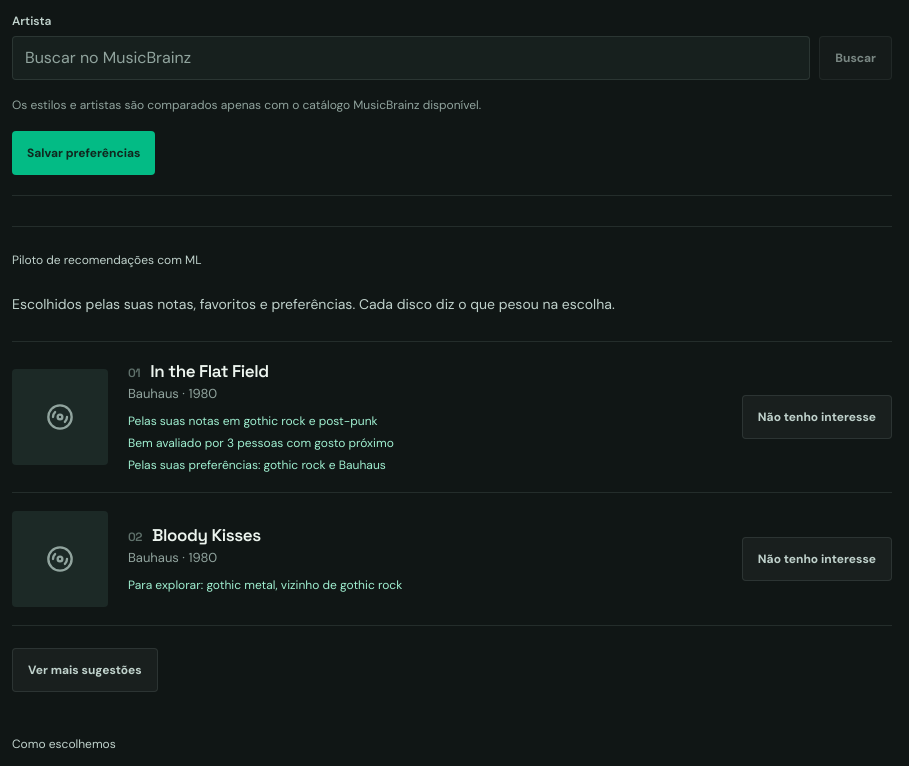
Test case: RecommendationsPage › keeps the album when dismissing fails
(page scrolled)
Click the button with aria-label "Não tenho interesse em Bloody Kisses" at (817, 559), box [742,537,892,581]
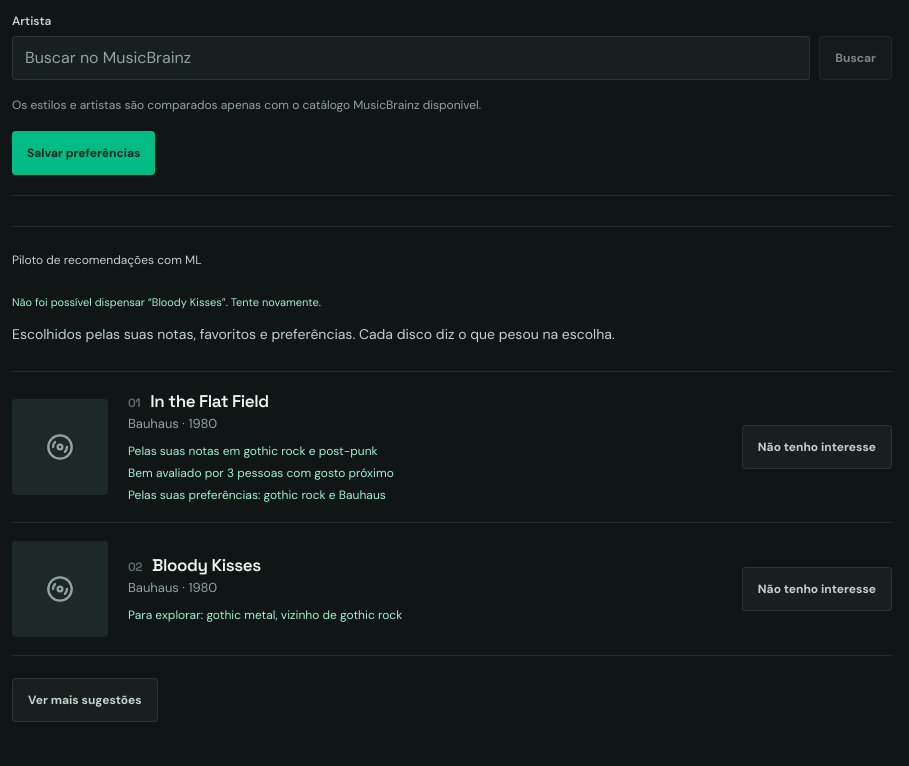
Expected: the link "Bloody Kisses" is shown, [152,554,261,576]
Expected: the text "Não foi possível dispensar “Bloody Kisses”. Tente novamente." is shown, [12,295,321,309]
